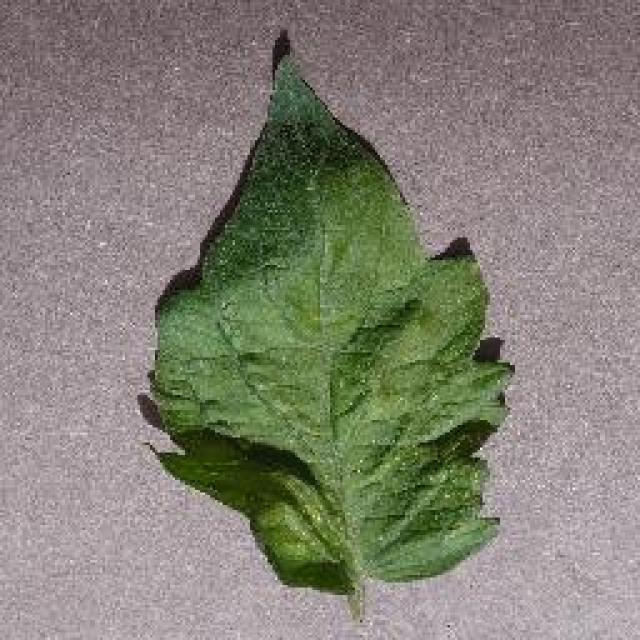Tomato___Spider_mites Two-spotted_spider_mite: (152, 55, 510, 622)
